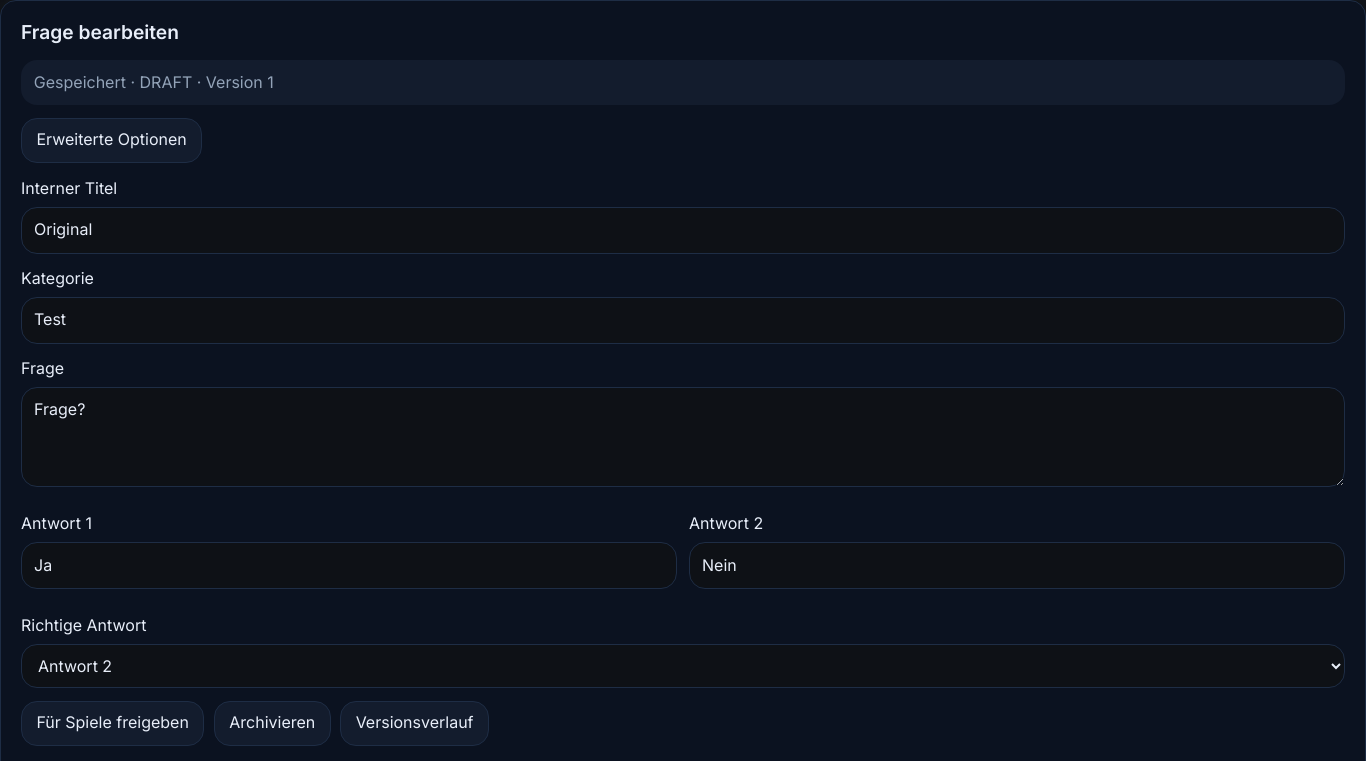
does not overwrite text typed while the previous save is in flight
Type " A" into the text box labelled "Frage" at (683, 437), box [21,387,1345,487]
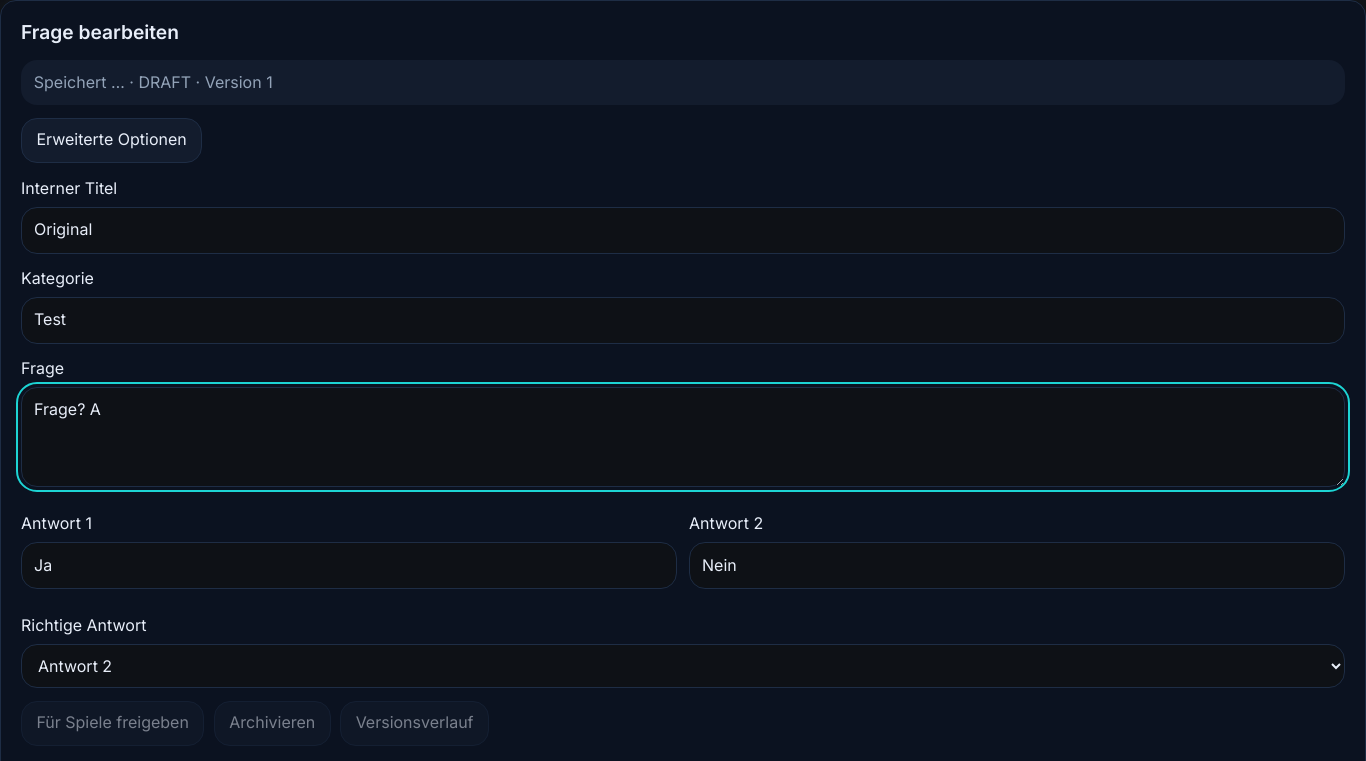
Type " B" into the text box labelled "Frage" at (683, 437), box [21,387,1345,487]
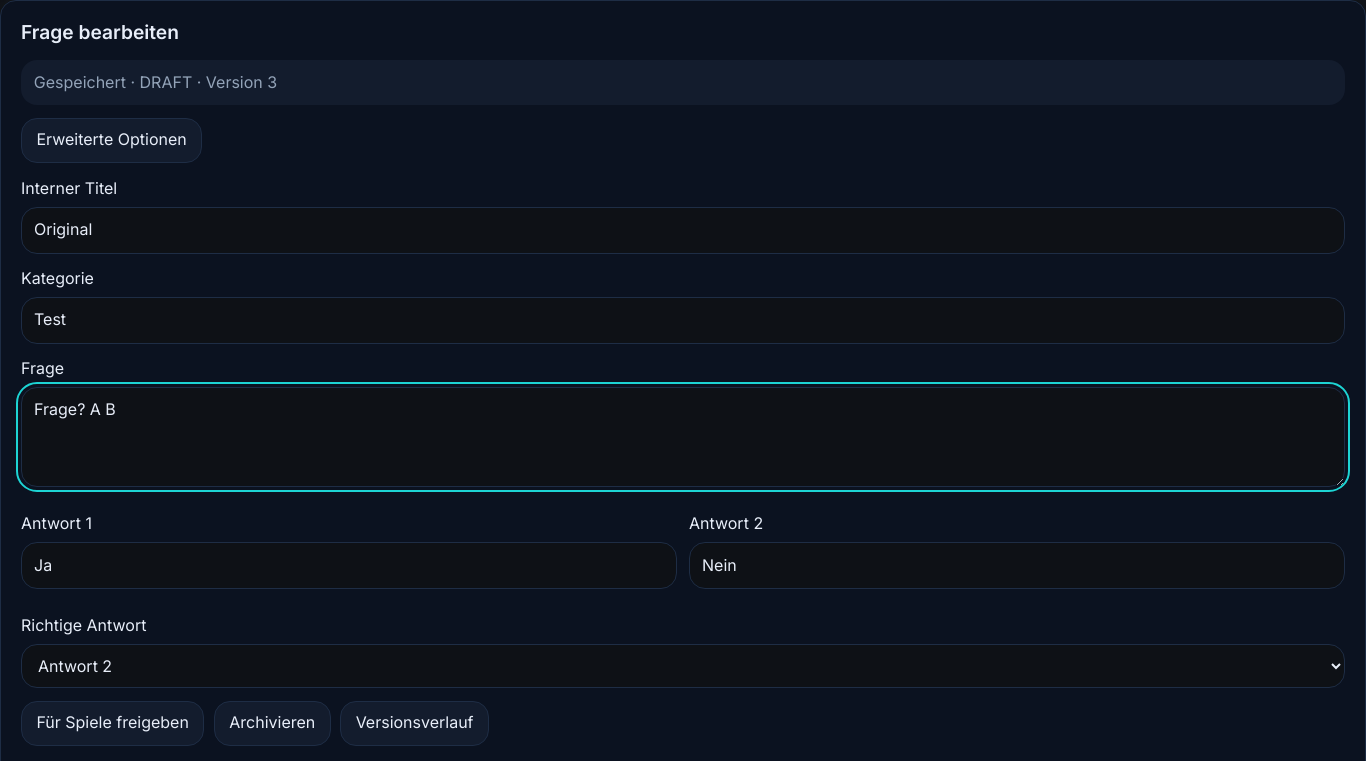
Now the text box labelled "Frage" holds "Frage? A B", box [21,387,1345,487]
